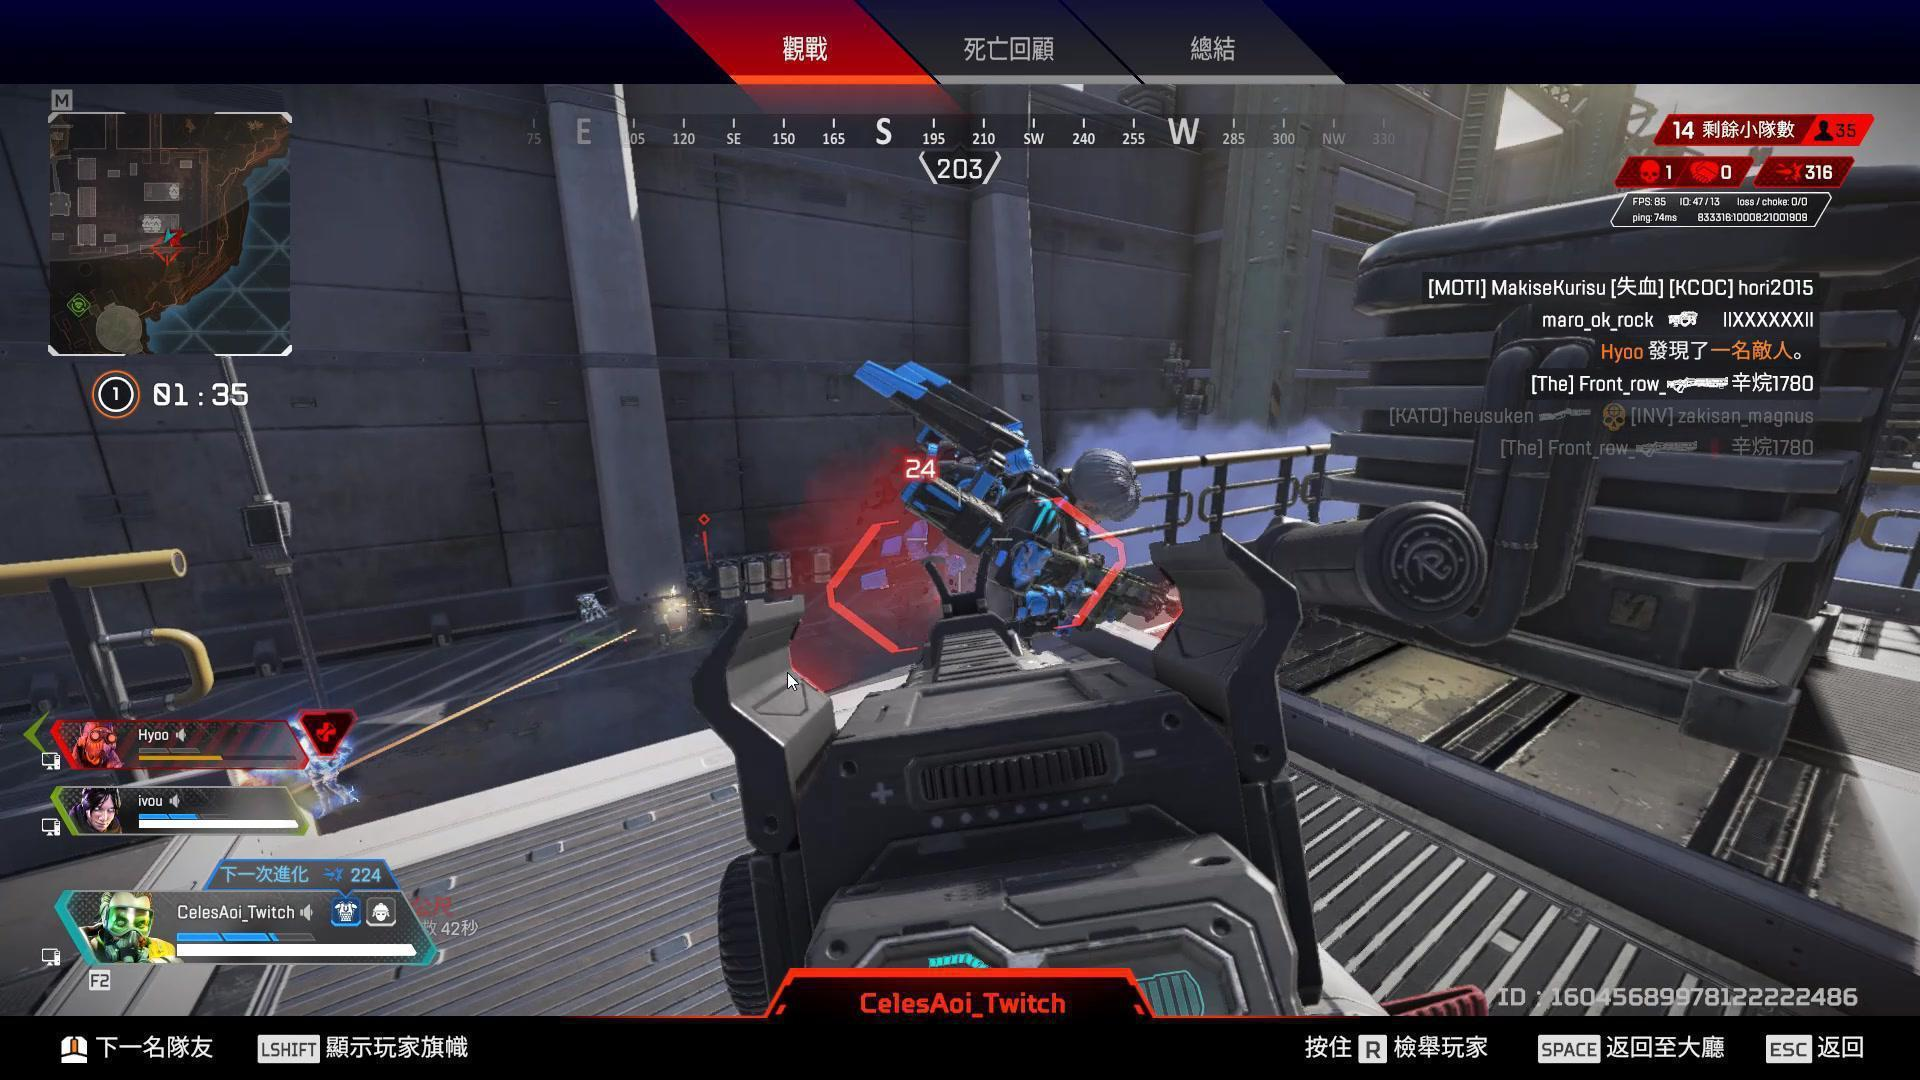avatar: (852, 360, 1141, 624)
